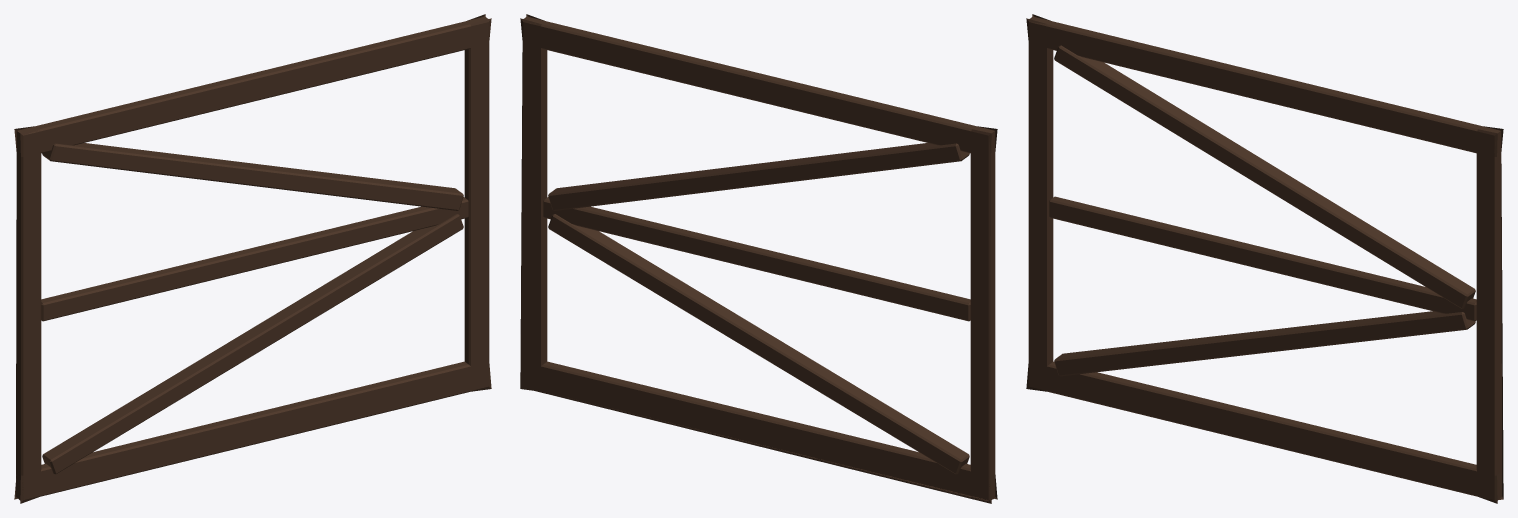
File: timber_plain_w16.fbx
3 renders of one model, left to right at view 1: azimuth 30°, elevation 25°; view 2: azimuth 150°, elevation 25°; view 3: azimuth 330°, elevation 25°, orthographic.
Parts seen in each view (by area): view 1: timber_plain_w16; view 2: timber_plain_w16; view 3: timber_plain_w16.
Part boxes in pixels (x1,y1,x2,y2): timber_plain_w16: (14,14,491,503); timber_plain_w16: (520,14,997,503); timber_plain_w16: (1026,14,1503,503).
Size of the model in its own units: 1610 by 1210 by 55.
